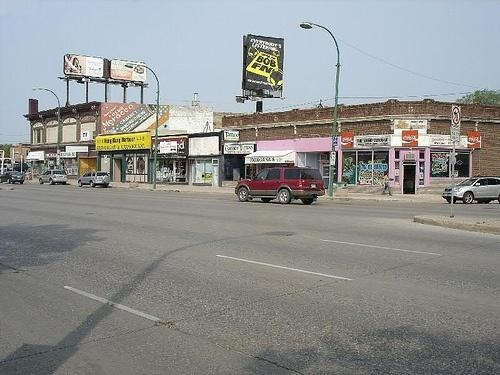car: (235, 165, 328, 208), (443, 174, 500, 206), (78, 170, 113, 192), (38, 170, 71, 188)
